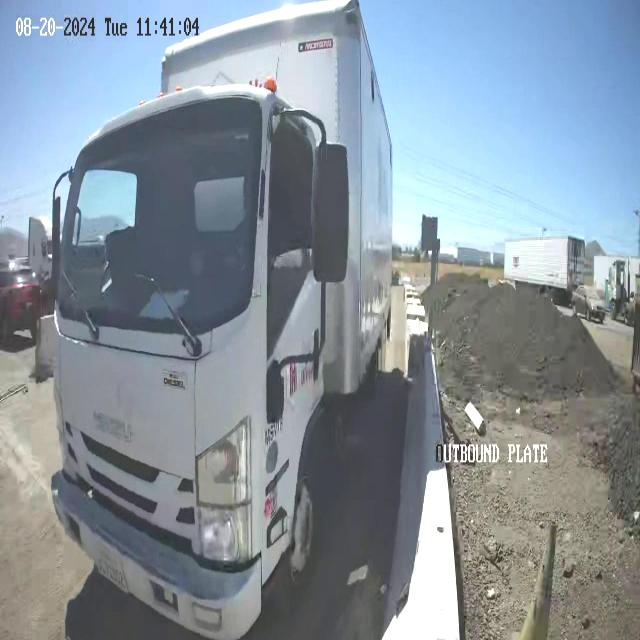CONTAINER: (160, 3, 394, 400)
